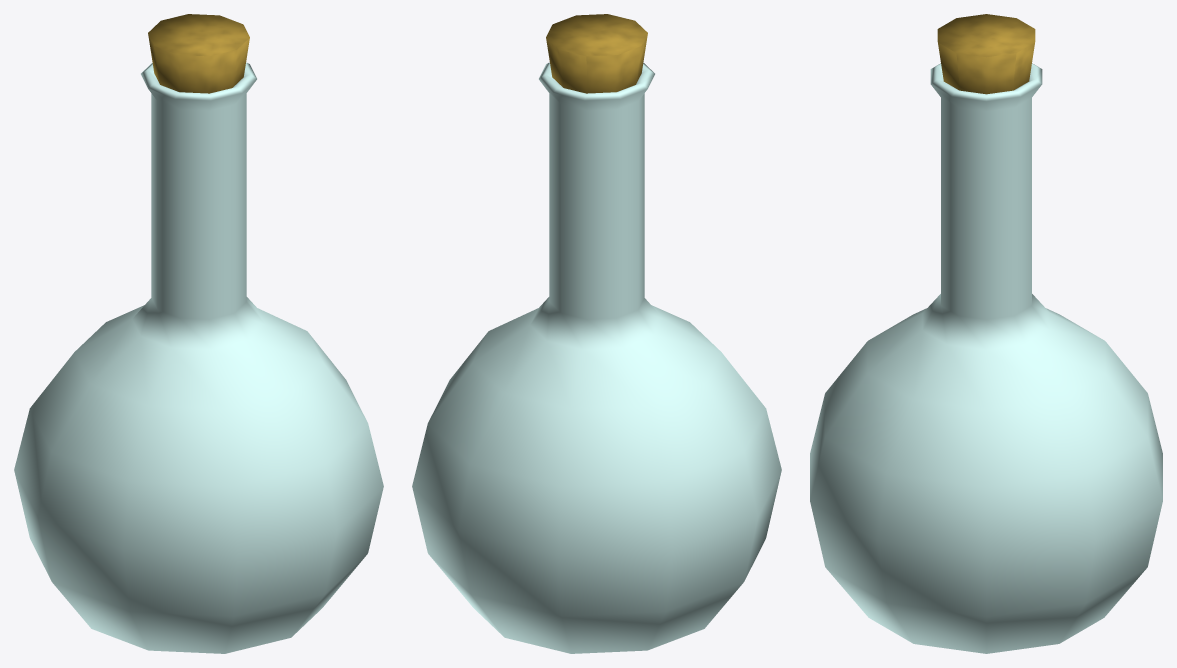
File: flat_bottom-long_neck.glb
The picture shows the model from 3 angles, left to right: view 1: azimuth 30°, elevation 25°; view 2: azimuth 150°, elevation 25°; view 3: azimuth 270°, elevation 25°; orthographic projection.
Parts seen in each view (by area): view 1: flat_bottom-long_neck, cork-flat_bottom-long_neck; view 2: flat_bottom-long_neck, cork-flat_bottom-long_neck; view 3: flat_bottom-long_neck, cork-flat_bottom-long_neck.
Part boxes in pixels (x1=…): flat_bottom-long_neck: x1=14, y1=62, x2=383, y2=653; cork-flat_bottom-long_neck: x1=148, y1=14, x2=249, y2=93; flat_bottom-long_neck: x1=412, y1=62, x2=781, y2=653; cork-flat_bottom-long_neck: x1=546, y1=14, x2=647, y2=93; flat_bottom-long_neck: x1=810, y1=63, x2=1162, y2=653; cork-flat_bottom-long_neck: x1=937, y1=14, x2=1035, y2=94.
Bounding box in the file's own units: 0.1084 × 0.1826 × 0.1031.
Materials: 2 (1 with a texture image).
